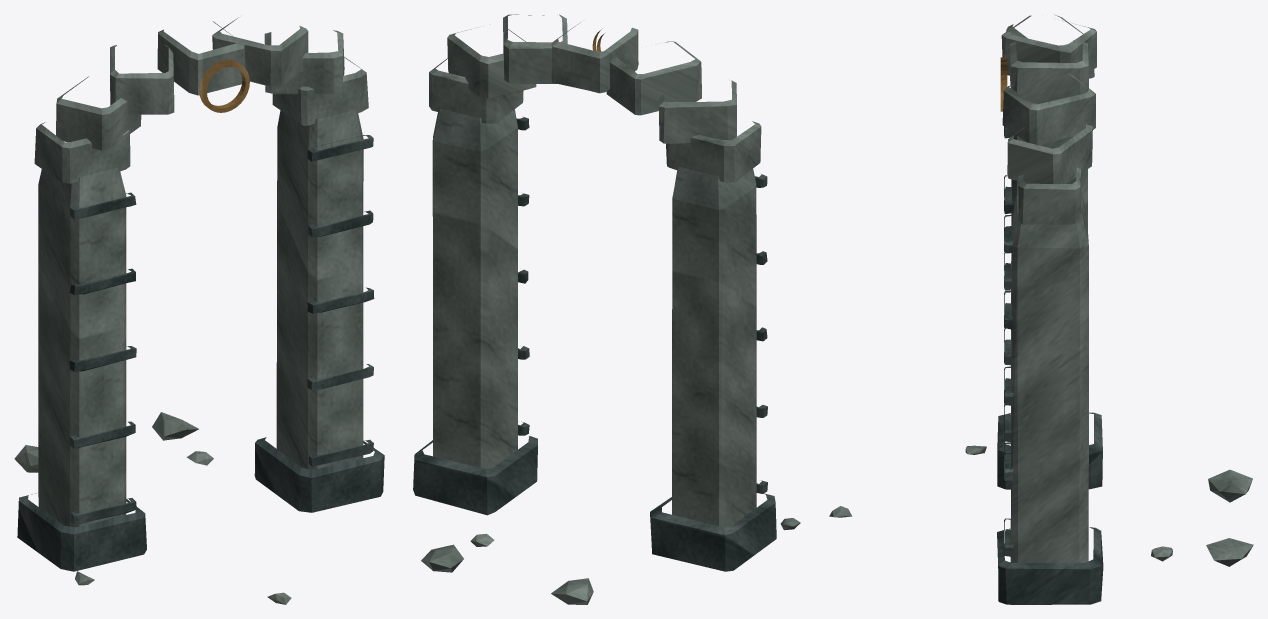
File: 0318_archway_18.glb
3 views of the same model, side by side, from view 1: azimuth 30°, elevation 25°; view 2: azimuth 150°, elevation 25°; view 3: azimuth 270°, elevation 25° (orthographic).
Parts seen in each view (by area): view 1: stone, stone_dark, brass; view 2: stone, stone_dark; view 3: stone, stone_dark.
Boxes of the visible parts, x1,y1,x2,y2 form: stone: (14, 17, 368, 604); stone_dark: (17, 135, 384, 571); brass: (199, 59, 249, 112); stone: (421, 14, 800, 604); stone_dark: (413, 117, 776, 571); stone: (829, 14, 1253, 566); stone_dark: (997, 126, 1103, 604).
Bounding box in the file's own units: 3.02 × 4.3 × 3.44.
Materials: 3 (3 with a texture image).
